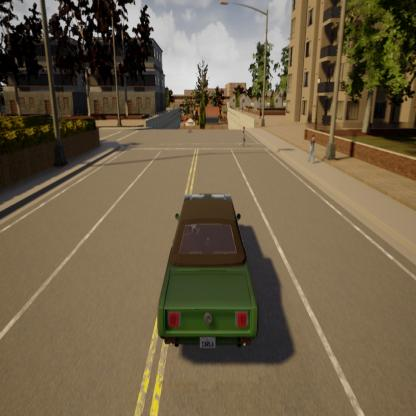Cars: (147, 172, 276, 370)
Pedestrian: (238, 121, 252, 157), (308, 127, 318, 176)
